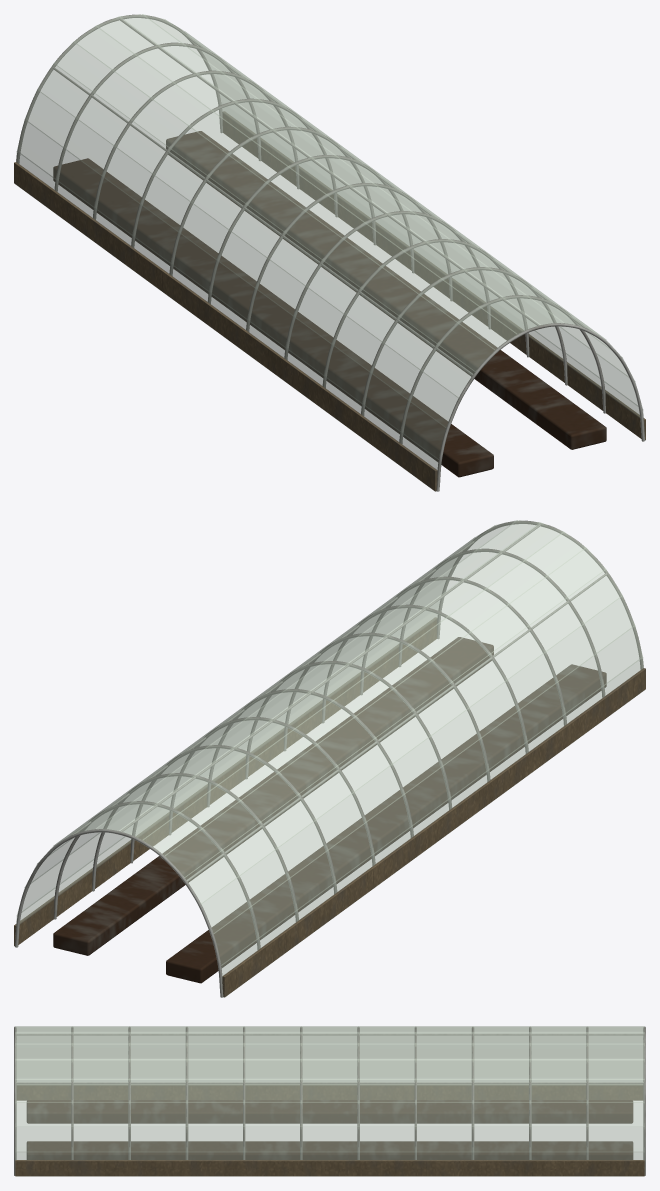
File: szkl_tunel.glb
3 renders of one model, top to bottom at view 1: azimuth 30°, elevation 25°; view 2: azimuth 150°, elevation 25°; view 3: azimuth 270°, elevation 25°, orthographic. The views are drawn at different scales.
Visible parts, largest first — view 1: Folia, Tunel; view 2: Folia, Tunel; view 3: Folia, Tunel.
Part boxes in pixels (bbox=[...]): Folia: bbox=[16, 14, 645, 491]; Tunel: bbox=[14, 14, 645, 491]; Folia: bbox=[14, 520, 643, 997]; Tunel: bbox=[14, 520, 645, 997]; Folia: bbox=[15, 1026, 644, 1176]; Tunel: bbox=[14, 1026, 645, 1176].
Size of the model in its own units: 3.18 by 2.04 by 11.04.
2 materials, 1 textured.
